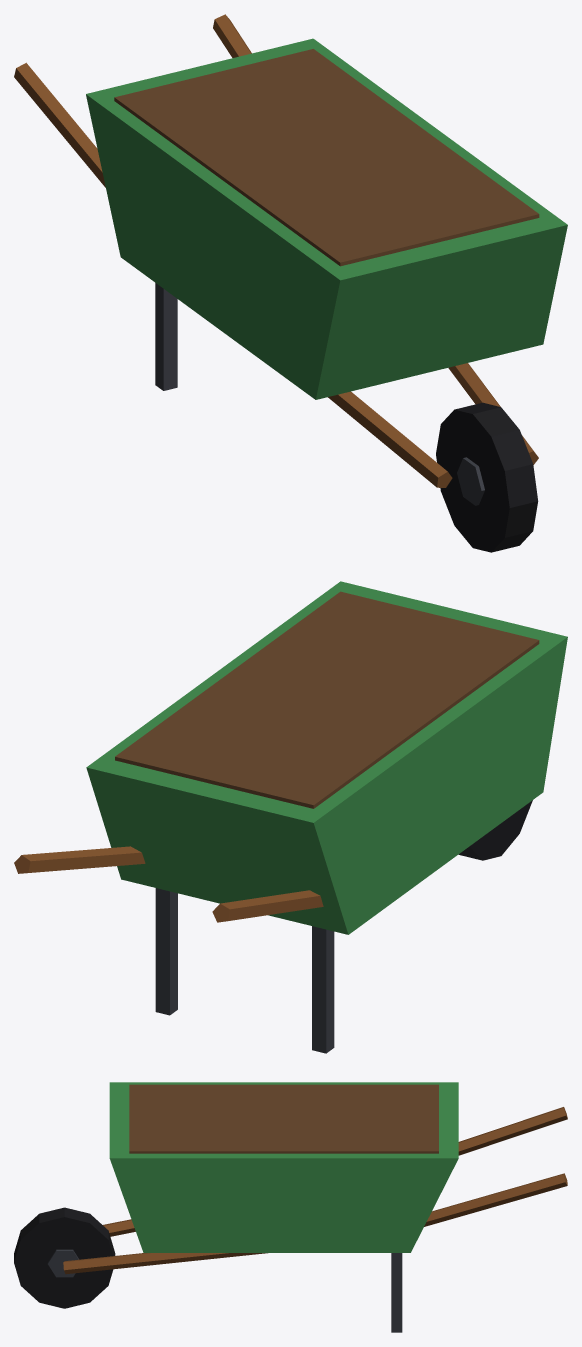
File: wheelbarrow.glb
The picture shows the model from 3 angles, top to bottom: view 1: azimuth 30°, elevation 25°; view 2: azimuth 150°, elevation 25°; view 3: azimuth 270°, elevation 25°; orthographic projection. The views are drawn at different scales.
Visible parts, largest first — view 1: wheelbarrow; view 2: wheelbarrow; view 3: wheelbarrow.
Boxes of the visible parts, x1=… form: wheelbarrow: x1=14, y1=14, x2=567, y2=552; wheelbarrow: x1=14, y1=581, x2=567, y2=1053; wheelbarrow: x1=14, y1=1082, x2=567, y2=1332.
Bounding box in the file's own units: 0.64 × 0.73 × 1.97.
